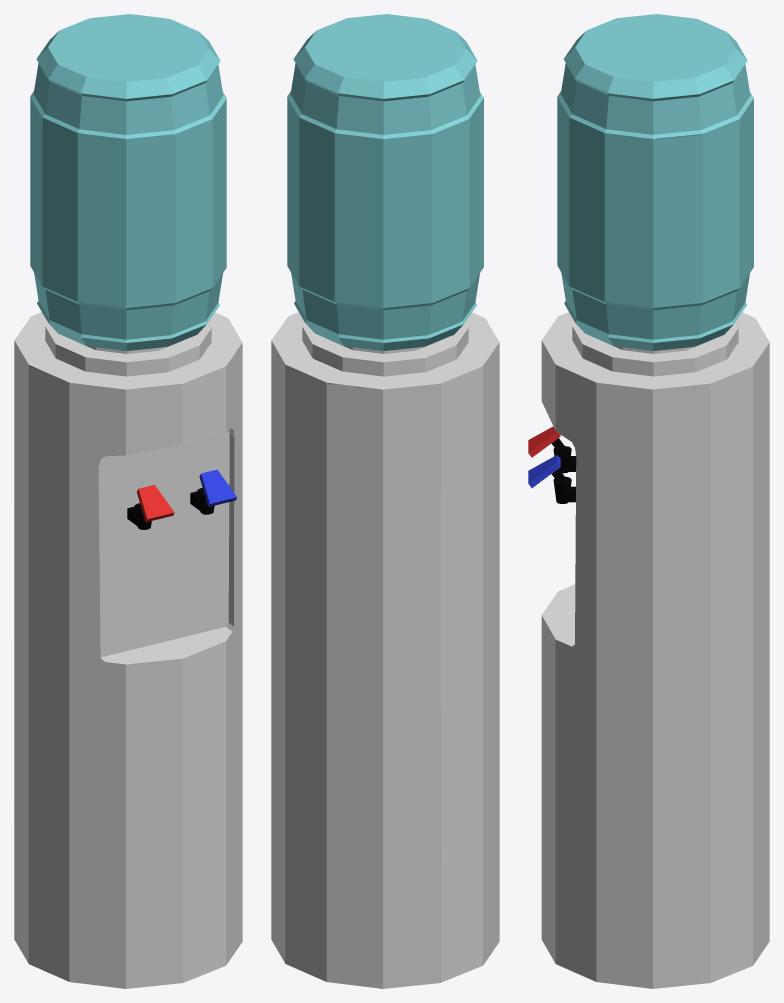
The model's file is water-tank.fbx.
3 renders of one model, left to right at view 1: azimuth 30°, elevation 25°; view 2: azimuth 150°, elevation 25°; view 3: azimuth 270°, elevation 25°, orthographic.
Parts seen in each view (by area): view 1: Cube; view 2: Cube; view 3: Cube.
Boxes of the visible parts, box(x1,y1,x2,y2) form: Cube: box(14, 14, 242, 988); Cube: box(271, 14, 499, 988); Cube: box(528, 14, 769, 988).
Size of the model in its own units: 32.53 by 141 by 34.42.
